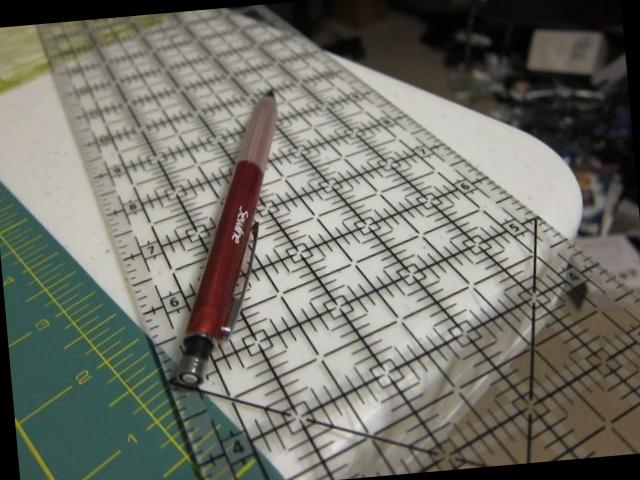PEN: (164, 77, 292, 400)
